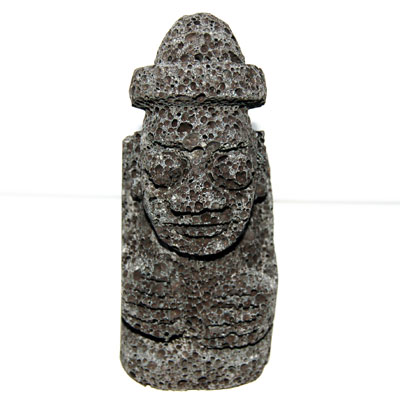Stone Statue: (104, 6, 282, 391)
